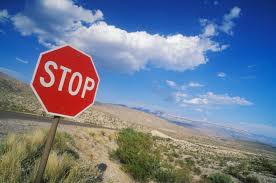stop: (27, 40, 106, 119)
